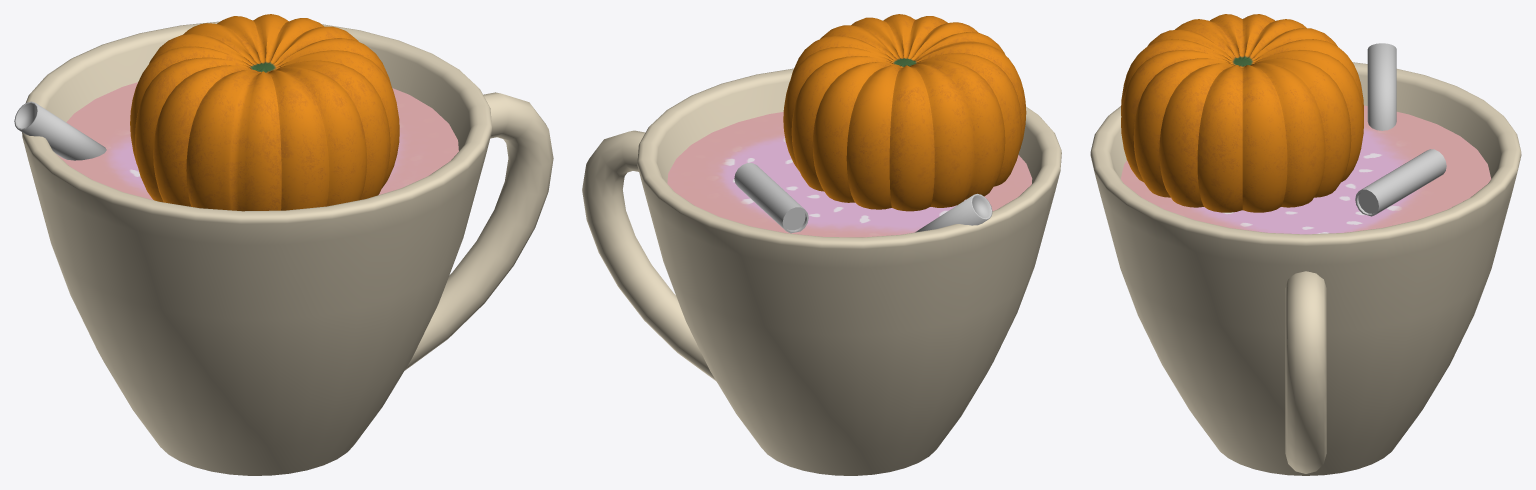
File: pumpkin spice latte 1.fbx
3 views of the same model, side by side, from view 1: azimuth 30°, elevation 25°; view 2: azimuth 150°, elevation 25°; view 3: azimuth 270°, elevation 25° (orthographic). The views are drawn at different scales.
Parts seen in each view (by area): view 1: CoffeeCup, pumpkin, Liquid, cinnnamon; view 2: CoffeeCup, pumpkin, Liquid, cinnnamon.001, cinnnamon; view 3: CoffeeCup, pumpkin, Liquid, cinnnamon.001, cinnnamon.
Part boxes in pixels (x1=…): CoffeeCup: x1=22, y1=21, x2=553, y2=475; pumpkin: x1=130, y1=14, x2=399, y2=211; Liquid: x1=56, y1=82, x2=458, y2=200; cinnnamon: x1=14, y1=101, x2=106, y2=160; CoffeeCup: x1=582, y1=68, x2=1061, y2=475; pumpkin: x1=783, y1=14, x2=1026, y2=211; Liquid: x1=667, y1=112, x2=1032, y2=237; cinnnamon.001: x1=734, y1=163, x2=808, y2=233; cinnnamon: x1=915, y1=193, x2=992, y2=232; CoffeeCup: x1=1090, y1=62, x2=1521, y2=475; pumpkin: x1=1121, y1=14, x2=1363, y2=212; Liquid: x1=1120, y1=105, x2=1491, y2=234; cinnnamon.001: x1=1355, y1=149, x2=1446, y2=216; cinnnamon: x1=1367, y1=43, x2=1396, y2=130.
Size of the model in its own units: 56.58 by 45.05 by 46.42.
